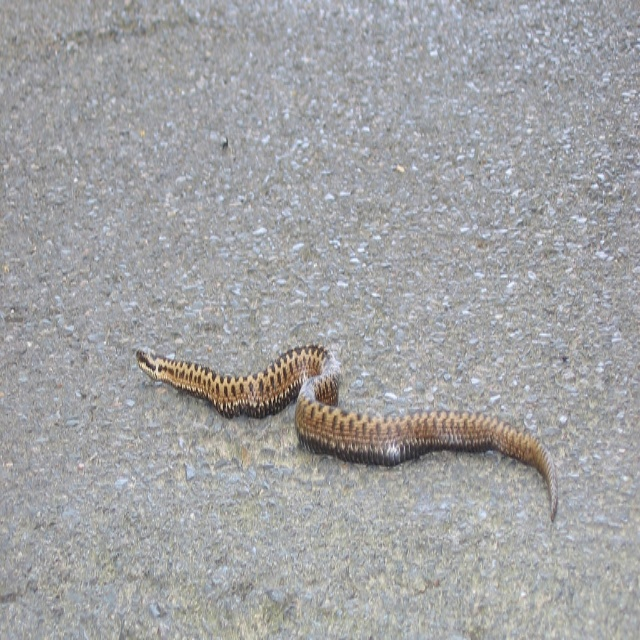Snake: (137, 347, 559, 514)
